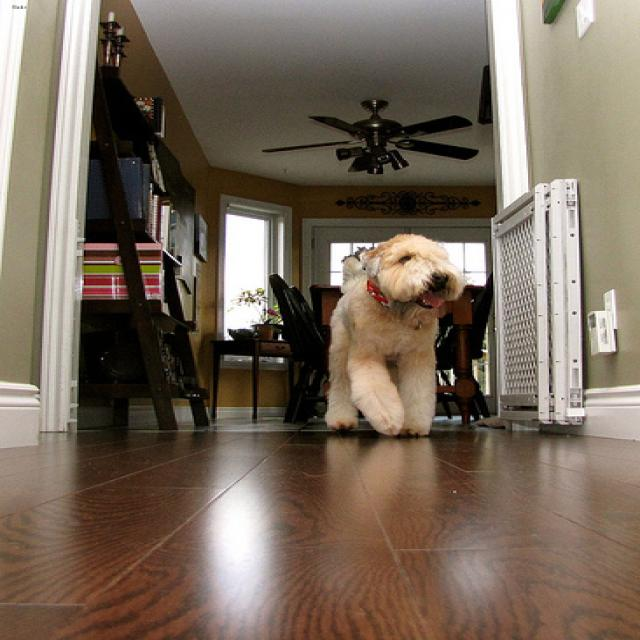dog-wheaten_terrier: (315, 232, 474, 439)
